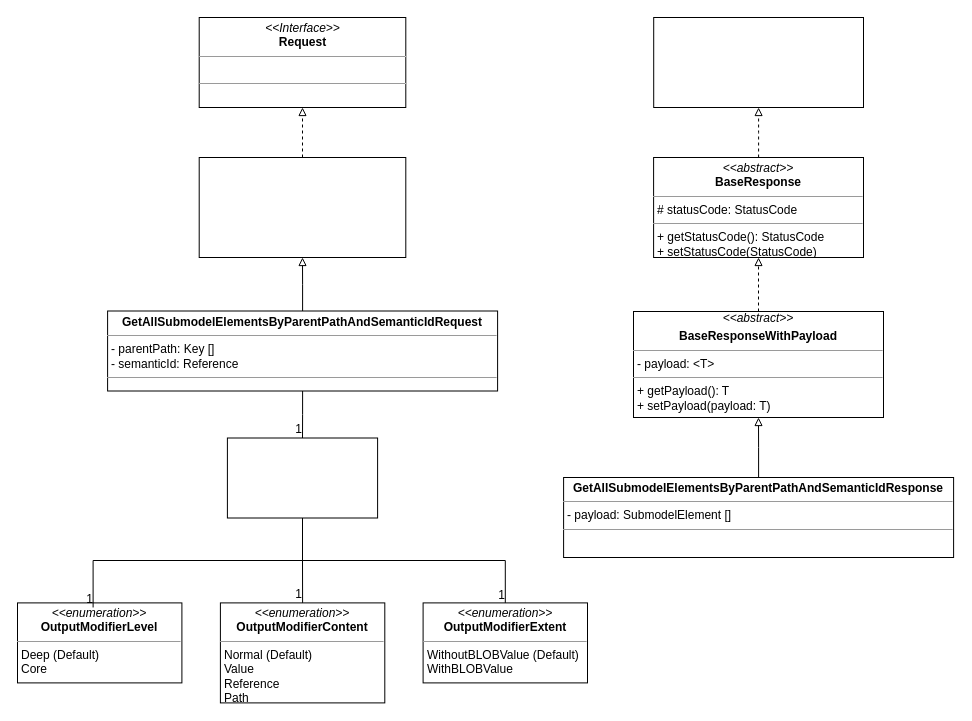
Image size: 972x721. Some labels were removed from this diagram. Each missing label, with the centre of its shape:
"<<abstract>> BaseRequest" goes at pixel 302 207.
"<<Interface>> Response" goes at pixel 758 62.
"OutputModifier" goes at pixel 302 477.
